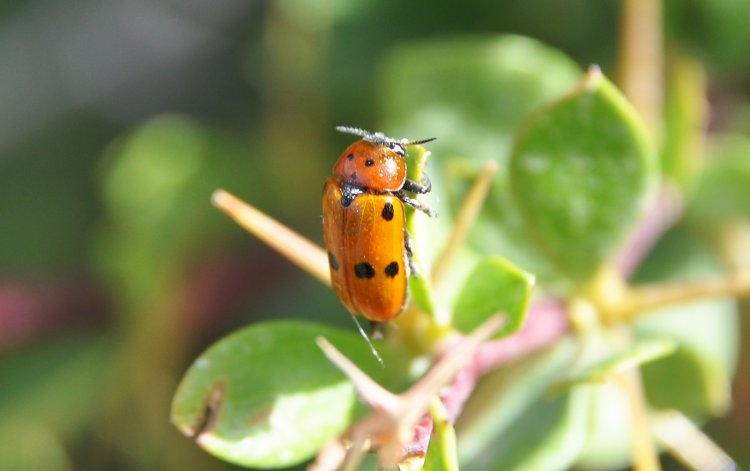Clytra_novempunctata: (318, 114, 438, 371)
